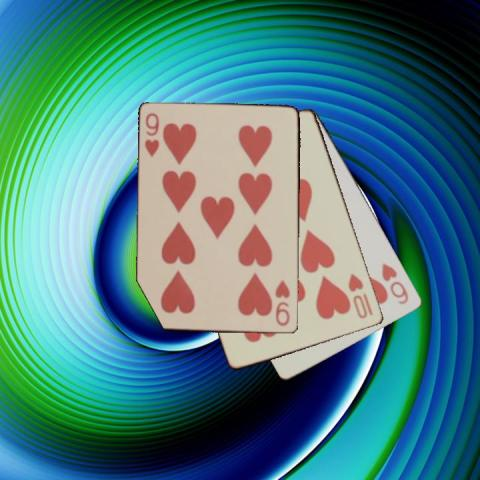10h: (345, 270, 375, 320)
6h: (378, 260, 410, 306)
9h: (142, 110, 161, 159), (273, 277, 291, 328)
